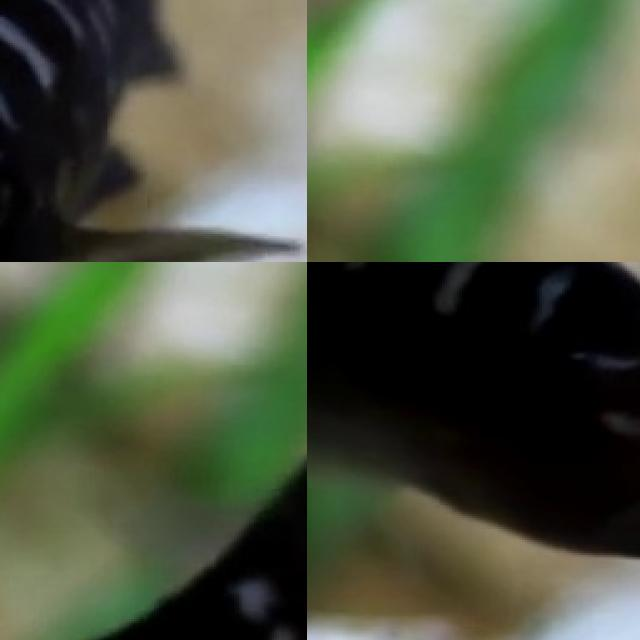fish: (0, 0, 307, 262)
